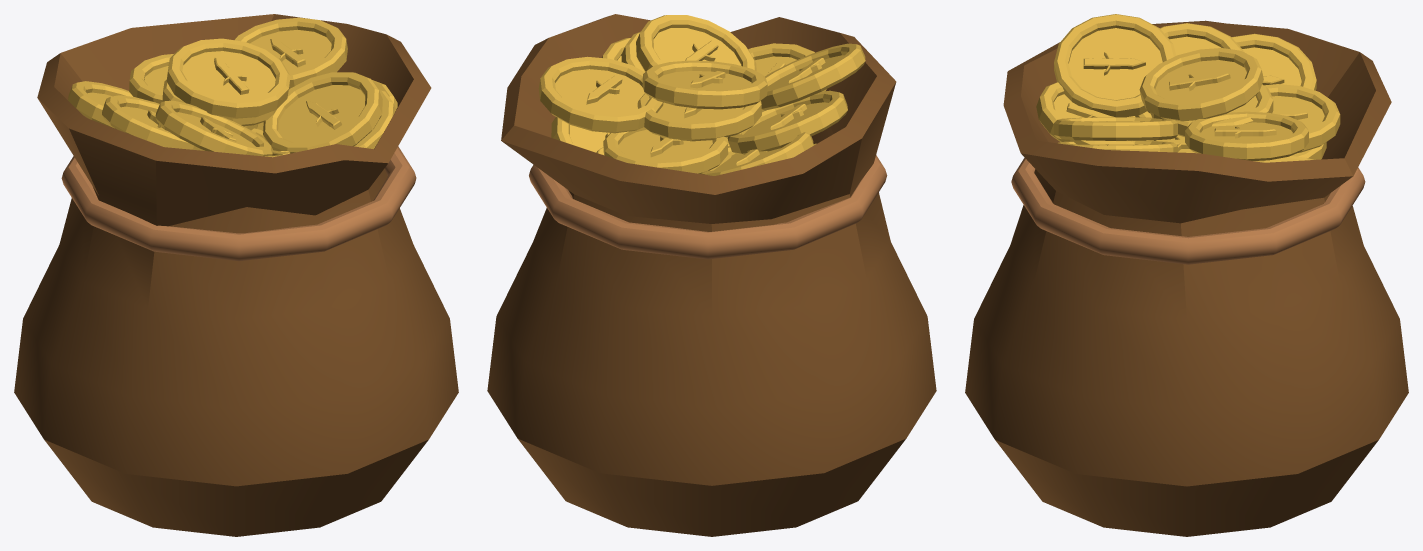
Rendered from Munzsack (1).fbx.
The picture shows the model from 3 angles, left to right: view 1: azimuth 30°, elevation 25°; view 2: azimuth 150°, elevation 25°; view 3: azimuth 270°, elevation 25°; orthographic projection.
Visible parts, largest first — view 1: Geldsack, Torus, Münze.013, Münze.005, Münze.014, Münze.006, Münze.004, Münze.012, Münze.011, Münze.008, Münze.015; view 2: Geldsack, Torus, Münze.014, Münze.013, Münze.005, Münze.004, Münze.012, Münze.006, Münze.015, Münze.011, Münze.003, Münze.010; view 3: Geldsack, Torus, Münze.006, Münze.013, Münze.014, Münze.005, Münze.011, Münze.012, Münze.003, Münze.004, Münze.015, Münze.008.
Part boxes in pixels (x1=…): Geldsack: x1=14, y1=14, x2=458, y2=536; Torus: x1=61, y1=146, x2=416, y2=261; Münze.013: x1=166, y1=38, x2=290, y2=118; Münze.005: x1=263, y1=72, x2=382, y2=153; Münze.014: x1=234, y1=17, x2=347, y2=89; Münze.006: x1=155, y1=100, x2=272, y2=156; Münze.004: x1=102, y1=95, x2=204, y2=150; Münze.012: x1=129, y1=54, x2=173, y2=103; Münze.011: x1=68, y1=81, x2=133, y2=129; Münze.008: x1=354, y1=89, x2=396, y2=148; Münze.015: x1=162, y1=80, x2=276, y2=126; Geldsack: x1=487, y1=14, x2=936, y2=536; Torus: x1=529, y1=155, x2=887, y2=259; Münze.014: x1=538, y1=56, x2=663, y2=133; Münze.013: x1=642, y1=60, x2=767, y2=109; Münze.005: x1=636, y1=15, x2=756, y2=71; Münze.004: x1=727, y1=90, x2=847, y2=154; Münze.012: x1=603, y1=127, x2=728, y2=173; Münze.006: x1=761, y1=43, x2=865, y2=110; Münze.015: x1=637, y1=93, x2=761, y2=141; Münze.011: x1=701, y1=132, x2=813, y2=175; Münze.003: x1=748, y1=43, x2=826, y2=91; Münze.010: x1=551, y1=117, x2=609, y2=154; Geldsack: x1=965, y1=20, x2=1408, y2=536; Torus: x1=1011, y1=157, x2=1365, y2=264; Münze.006: x1=1054, y1=14, x2=1176, y2=117; Münze.013: x1=1139, y1=48, x2=1263, y2=121; Münze.014: x1=1185, y1=111, x2=1308, y2=160; Münze.005: x1=1054, y1=117, x2=1177, y2=140; Münze.011: x1=1231, y1=33, x2=1316, y2=90; Münze.012: x1=1264, y1=84, x2=1340, y2=152; Münze.003: x1=1036, y1=82, x2=1155, y2=144; Münze.004: x1=1147, y1=23, x2=1244, y2=113; Münze.015: x1=1150, y1=84, x2=1273, y2=137; Münze.008: x1=1057, y1=140, x2=1177, y2=152.
Size of the model in its own units: 2.18 by 2.19 by 2.18.
